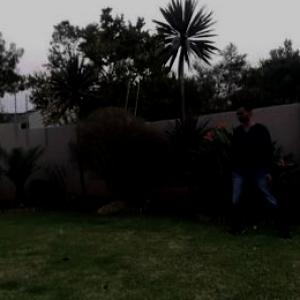follow: (230, 90, 272, 240)
